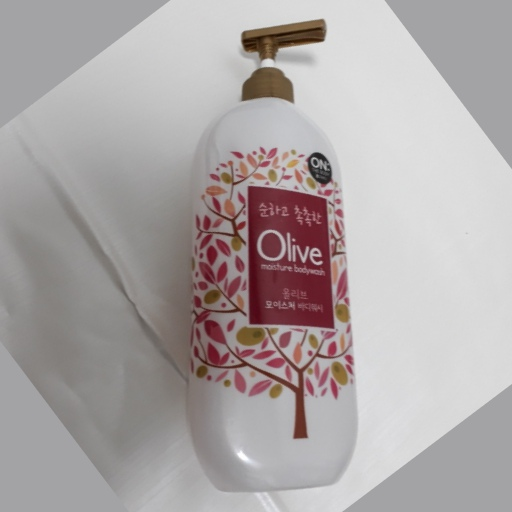Plastic_3: (186, 16, 358, 493)
